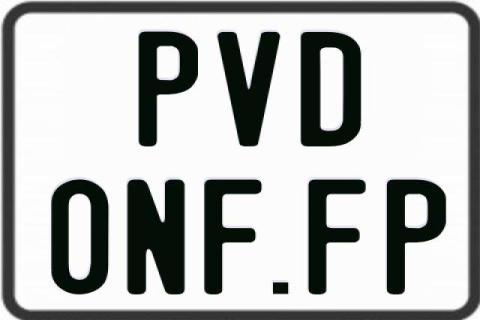0: (49, 178, 108, 296)
D: (299, 31, 364, 147)
F: (201, 177, 264, 293), (307, 180, 365, 300)
N: (127, 178, 191, 296)
P: (386, 178, 448, 298), (138, 30, 197, 148)
V: (217, 32, 285, 150)
